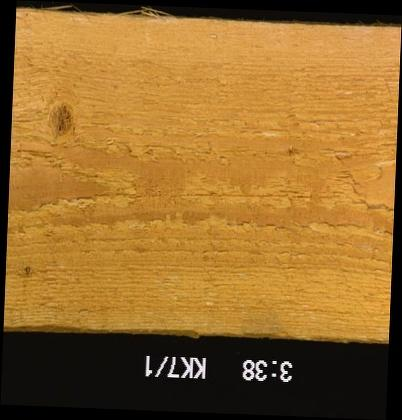small_knot: (284, 143, 299, 161), (23, 264, 31, 279)
sound_knot: (44, 99, 75, 144)
split: (176, 191, 312, 201), (14, 147, 48, 156)
wave: (2, 325, 388, 342)
